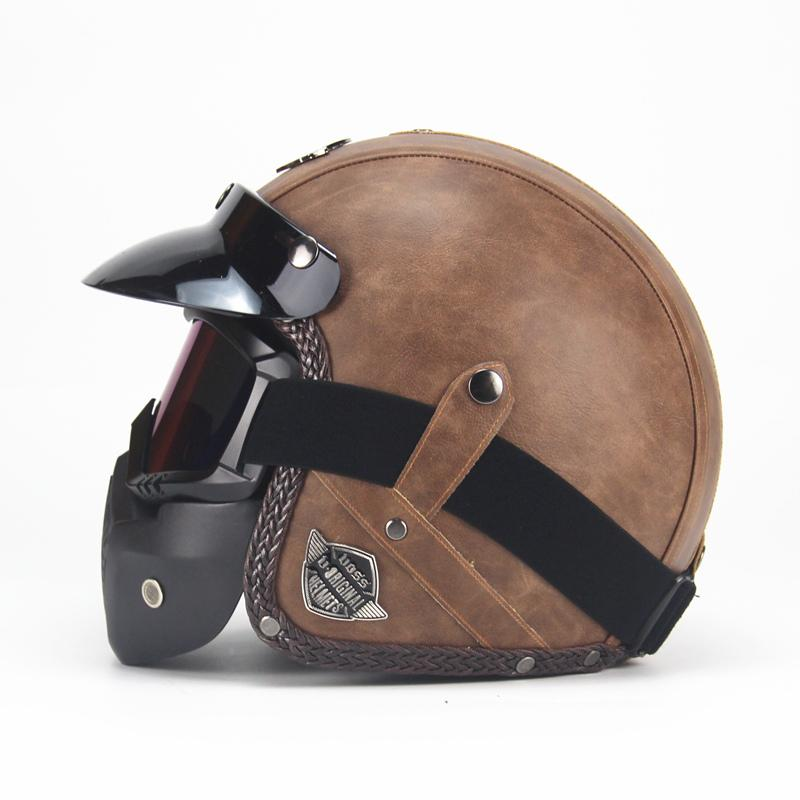with_helmet: (57, 108, 736, 709)
